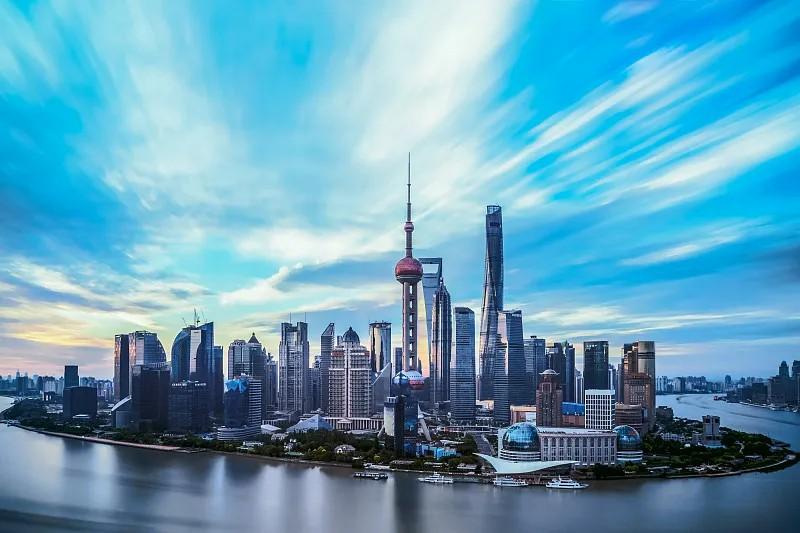Oriental: (395, 154, 424, 391)
